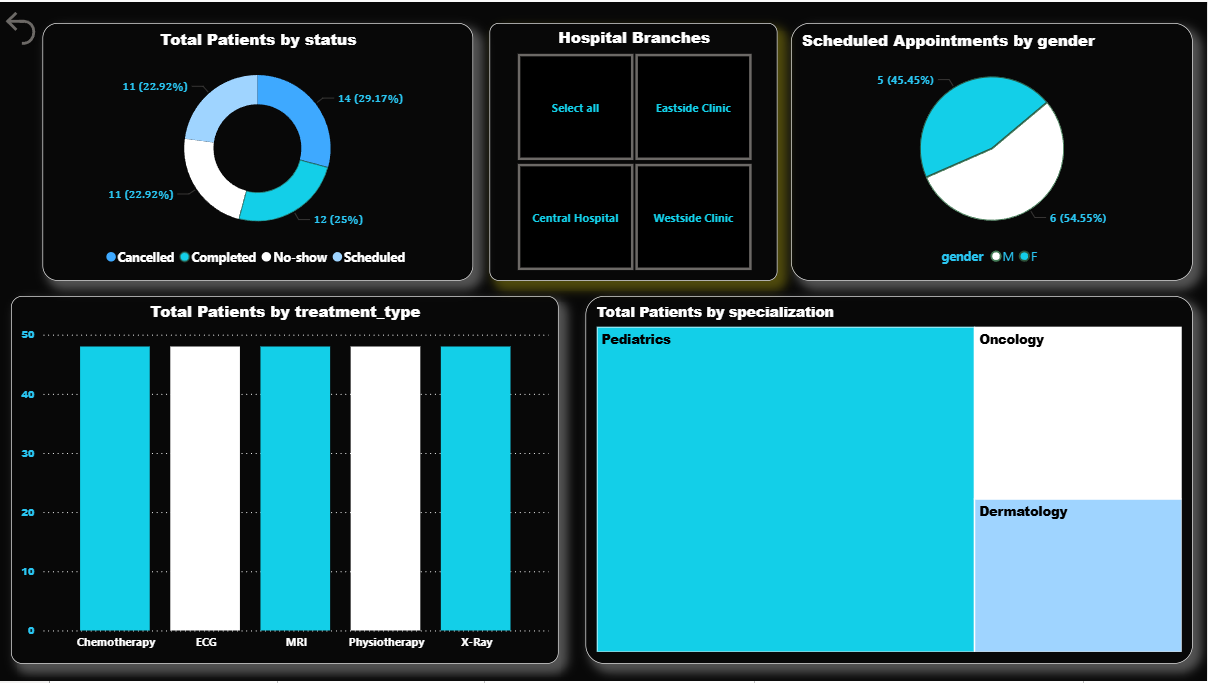

This screenshot's page, from the dashboard's own definition file:
{"tool":"powerbi","page":{"name":"Patients & Appointment Analysis","canvas":[1280,720],"ordinal":3},"visuals":[{"type":"lineClusteredColumnComboChart","fields":{"Category":["Treatments.treatment_type"],"Y":["DAX Measures.Total Patients"]},"box":[12.7,311.8,580.6,389.7],"z":0},{"type":"treemap","fields":{"Group":["Doctors.specialization"],"Values":["DAX Measures.Total Patients"]},"box":[621.9,311.8,644.2,389.7],"z":1000},{"type":"pieChart","fields":{"Category":["Patients.gender"],"Y":["DAX Measures.Scheduled Appointments"]},"box":[839.8,22.3,426.3,273.6],"z":2000},{"type":"donutChart","fields":{"Category":["Appointments.status"],"Y":["DAX Measures.Total Patients"]},"box":[46.1,22.3,456.5,273.6],"z":3000},{"type":"slicer","title":"Hospital Branches","fields":{"Values":["Doctors.hospital_branch"]},"box":[520.1,22.3,305.4,273.6],"z":4000},{"type":"actionButton","box":[0,0,46.1,55.7],"z":5000}]}

Visuals, with their boxes in screenshot pixels (x1, y1, x2, y2), scaled from the page's 1280x720 canvas onto the 1208x683 screenshot:
lineClusteredColumnComboChart - Treatments.treatment_type x DAX Measures.Total Patients: 12,296,560,665
treemap - Doctors.specialization x DAX Measures.Total Patients: 587,296,1195,665
pieChart - Patients.gender x DAX Measures.Scheduled Appointments: 793,21,1195,281
donutChart - Appointments.status x DAX Measures.Total Patients: 44,21,474,281
"Hospital Branches" slicer: 491,21,779,281
actionButton: 0,0,44,53
